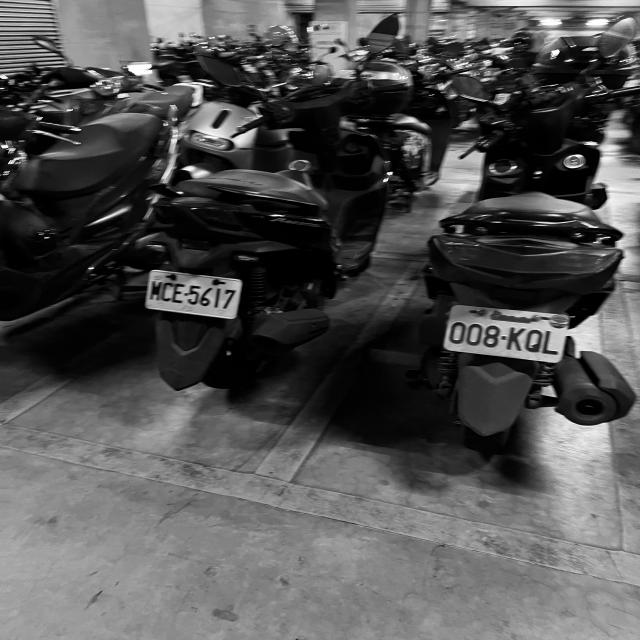-: (500, 334, 510, 342), (183, 292, 188, 297)
0: (465, 322, 486, 347), (448, 319, 469, 344)
1: (213, 287, 223, 309)
5: (186, 284, 202, 306)
6: (197, 288, 215, 308)
7: (220, 288, 237, 310)
8: (481, 323, 502, 349)
C: (160, 281, 174, 302)
E: (170, 283, 187, 305)
K: (505, 326, 528, 353)
L: (543, 328, 559, 356)
M: (149, 279, 165, 301)
Q: (526, 327, 541, 354)
plate: (446, 306, 568, 360), (150, 271, 238, 317)
